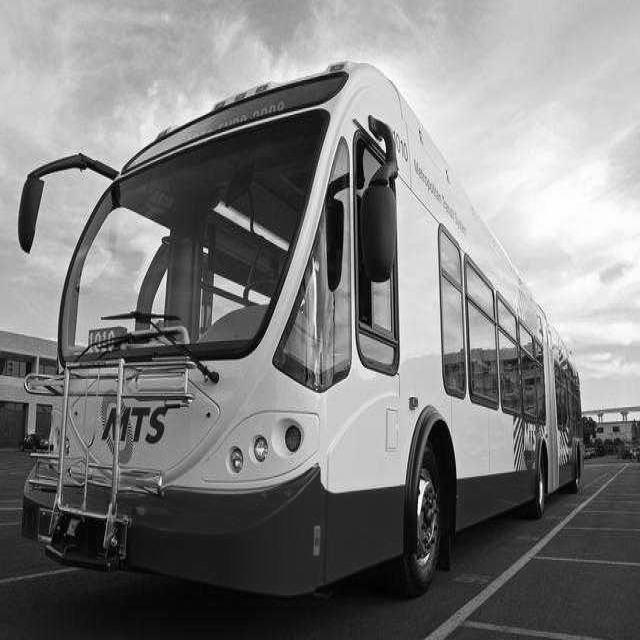Bus: (19, 63, 582, 597)
